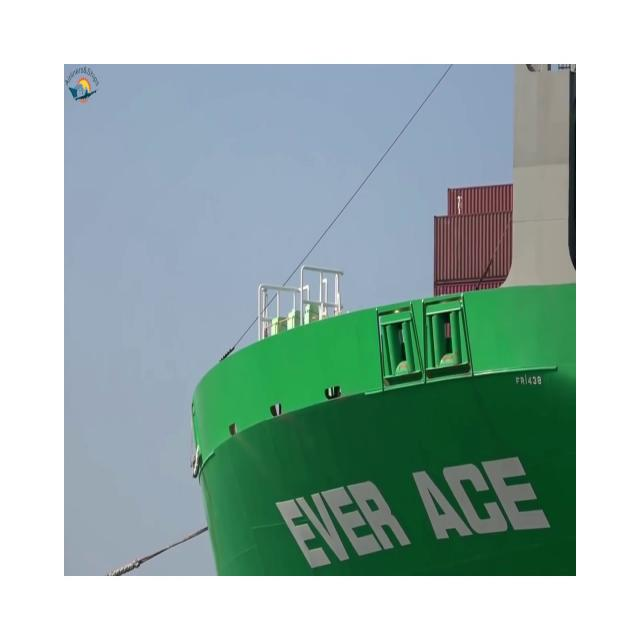OCR: (257, 456, 557, 578)
